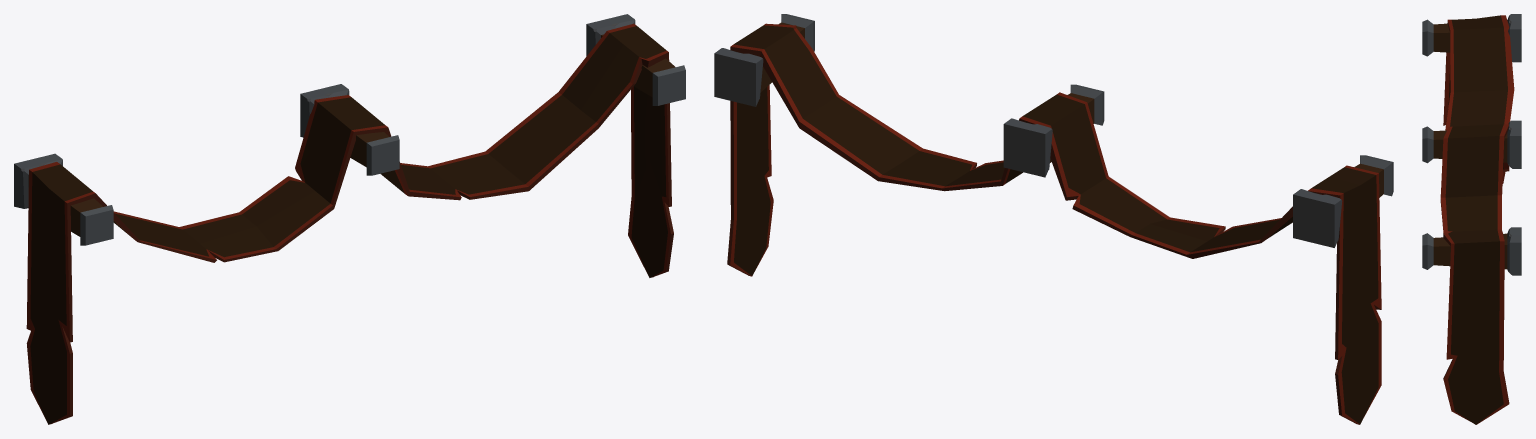
File: WallCloths_Red_01.glb
The picture shows the model from 3 angles, left to right: view 1: azimuth 30°, elevation 25°; view 2: azimuth 150°, elevation 25°; view 3: azimuth 270°, elevation 25°; orthographic projection. The views are drawn at different scales.
Parts seen in each view (by area): view 1: WallCloths_Red_01; view 2: WallCloths_Red_01; view 3: WallCloths_Red_01.
Boxes of the visible parts, left/top/right/bottom form: WallCloths_Red_01: left=14, top=14, right=685, bottom=424; WallCloths_Red_01: left=714, top=14, right=1393, bottom=424; WallCloths_Red_01: left=1422, top=14, right=1521, bottom=424.
Size of what is drawn, in the model's own units: 2.72 by 1.02 by 0.4985.
Materials: 1 (1 with a texture image).
